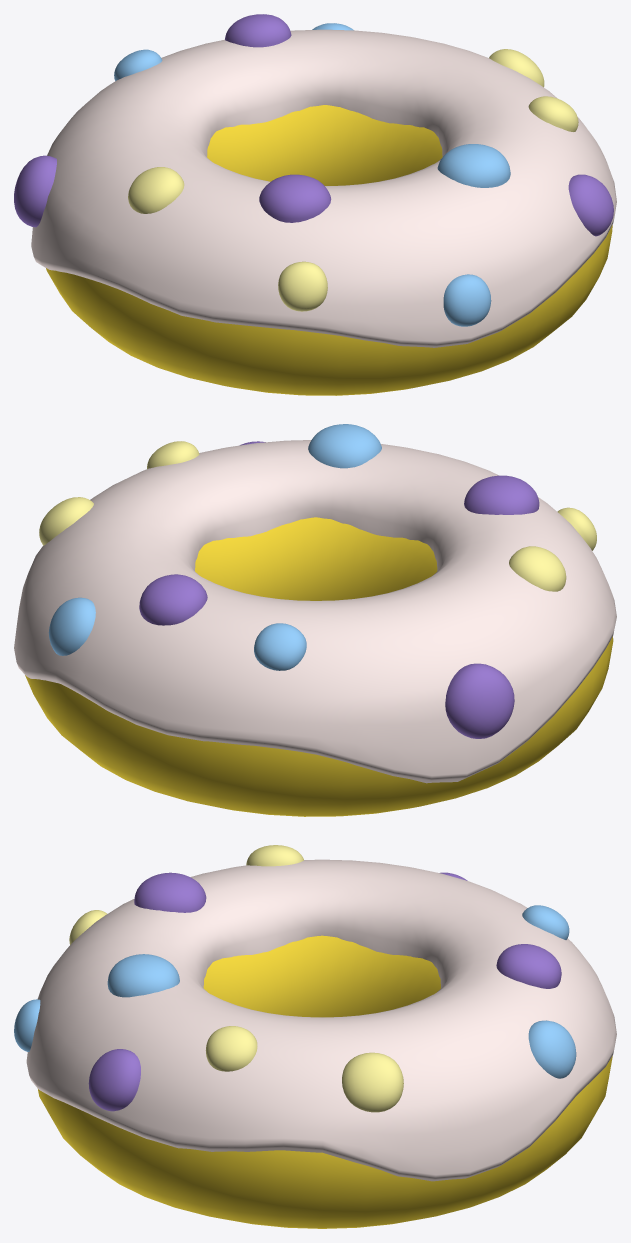
Rendered from Isl_4_Donut_2.fbx.
3 renders of one model, top to bottom at view 1: azimuth 30°, elevation 25°; view 2: azimuth 150°, elevation 25°; view 3: azimuth 270°, elevation 25°, orthographic. The views are drawn at different scales.
Visible parts, largest first — view 1: Isl_4_Donut_2; view 2: Isl_4_Donut_2; view 3: Isl_4_Donut_2.
Part boxes in pixels (x1,y1,x2,y2): Isl_4_Donut_2: (14, 14, 616, 395); Isl_4_Donut_2: (14, 424, 616, 816); Isl_4_Donut_2: (14, 845, 616, 1228).
Size of the model in its own units: 261 by 102 by 267.
